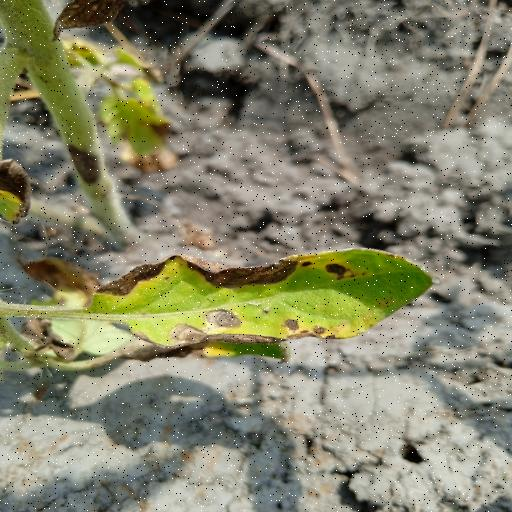Tomato_Brown_Spots: (70, 235, 444, 353)
